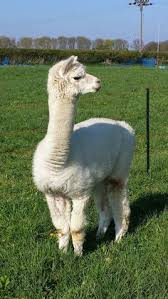alpaca: (31, 54, 136, 257)
